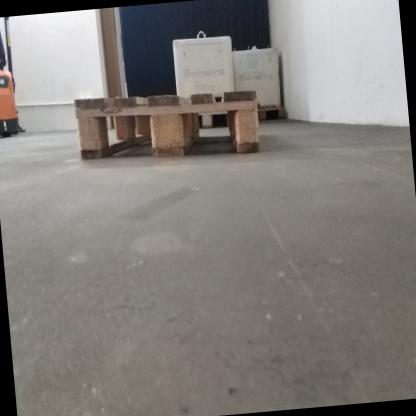BoxFace: (71, 87, 262, 163)
